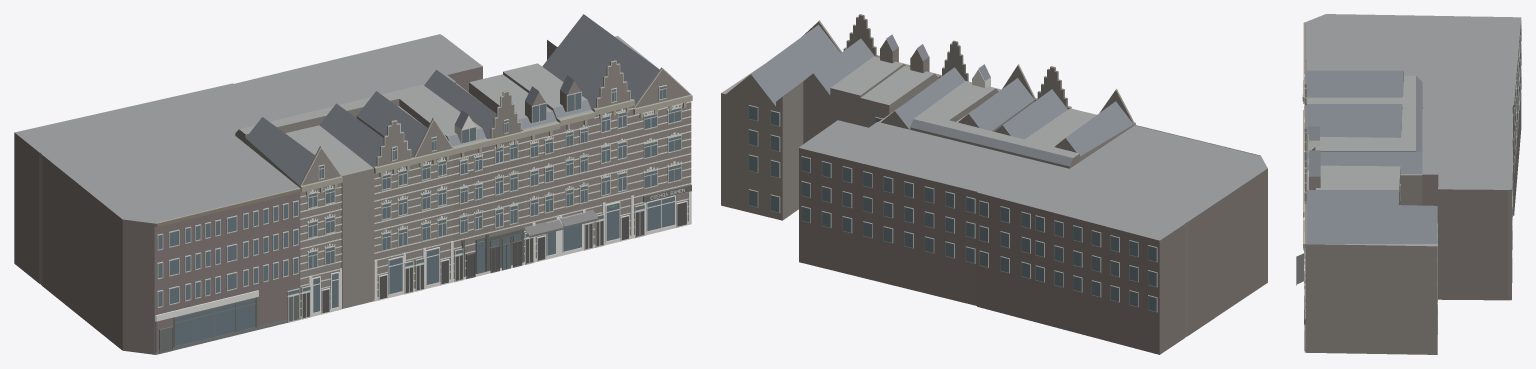
Rendered from chunk-face-kinker-56-84.glb.
The picture shows the model from 3 angles, left to right: view 1: azimuth 30°, elevation 25°; view 2: azimuth 150°, elevation 25°; view 3: azimuth 270°, elevation 25°; orthographic projection. The views are drawn at different scales.
Parts seen in each view (by area): view 1: face-kinker-56-84; view 2: face-kinker-56-84; view 3: face-kinker-56-84.
Part boxes in pixels (left/top/right/bottom): face-kinker-56-84: left=14, top=14, right=692, bottom=354; face-kinker-56-84: left=721, top=14, right=1267, bottom=354; face-kinker-56-84: left=1296, top=14, right=1521, bottom=354.
Size of the model in its own units: 60.91 by 18.84 by 25.15.
